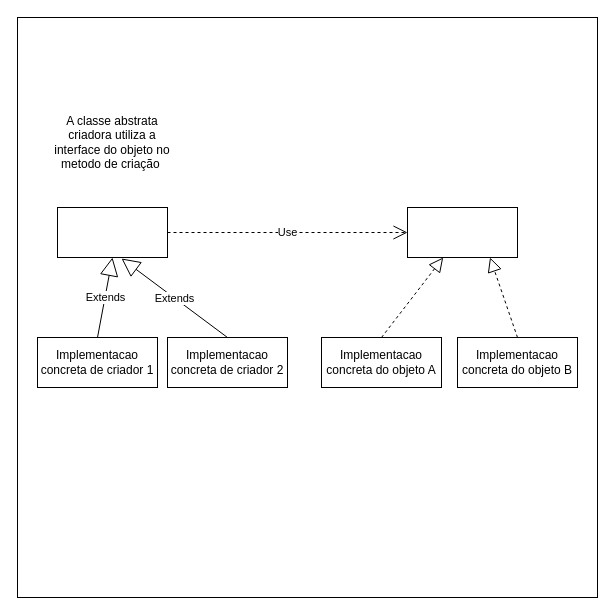
Image size: 615x615. Some labels were removed from this diagram. The shapes that lost their labels are listed below. From the top down, each one's centre as x and y in pixels, then its label:
At pixel 112 232: "«abstrata » Criador".
At pixel 462 232: "«interface» Objeto".
